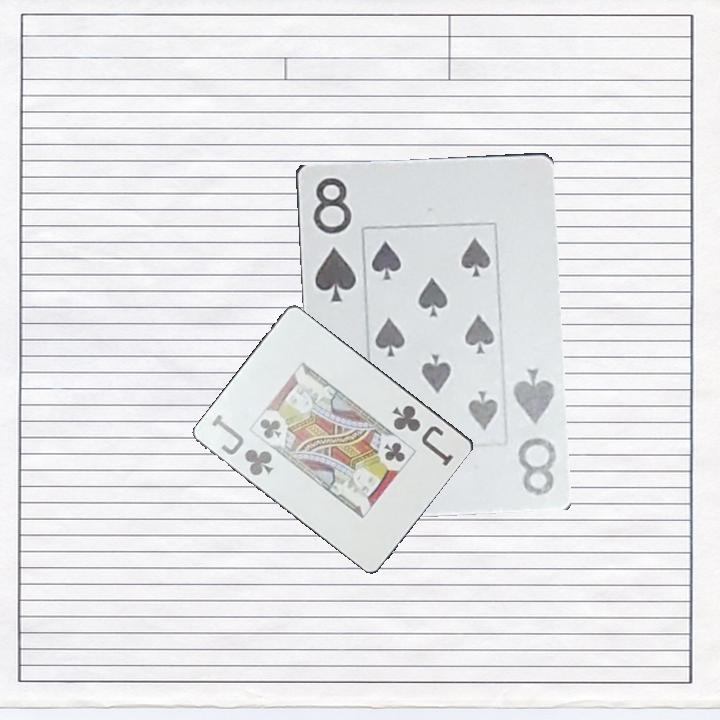8s: (509, 365, 559, 498), (309, 173, 358, 304)
Jc: (209, 410, 277, 479), (389, 401, 457, 469)
